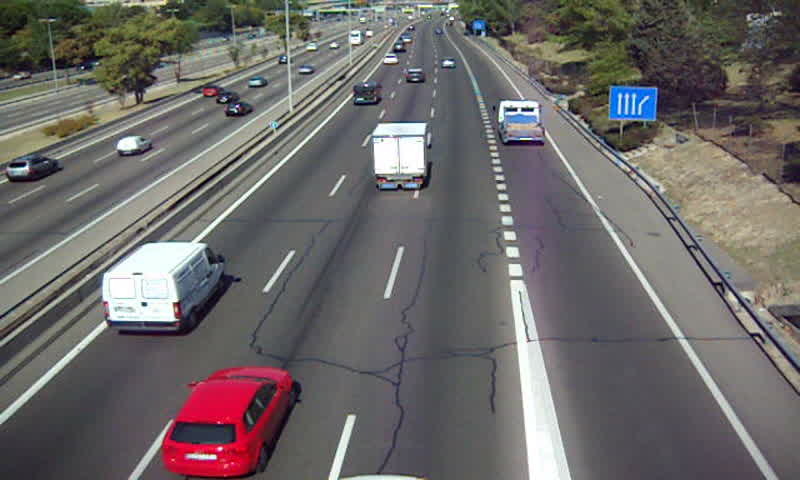car: (160, 366, 295, 478), (404, 67, 426, 84), (381, 52, 398, 67), (441, 57, 457, 70)
small-truck: (372, 122, 430, 190), (497, 100, 544, 144)
van: (102, 242, 225, 336), (351, 80, 382, 106)
